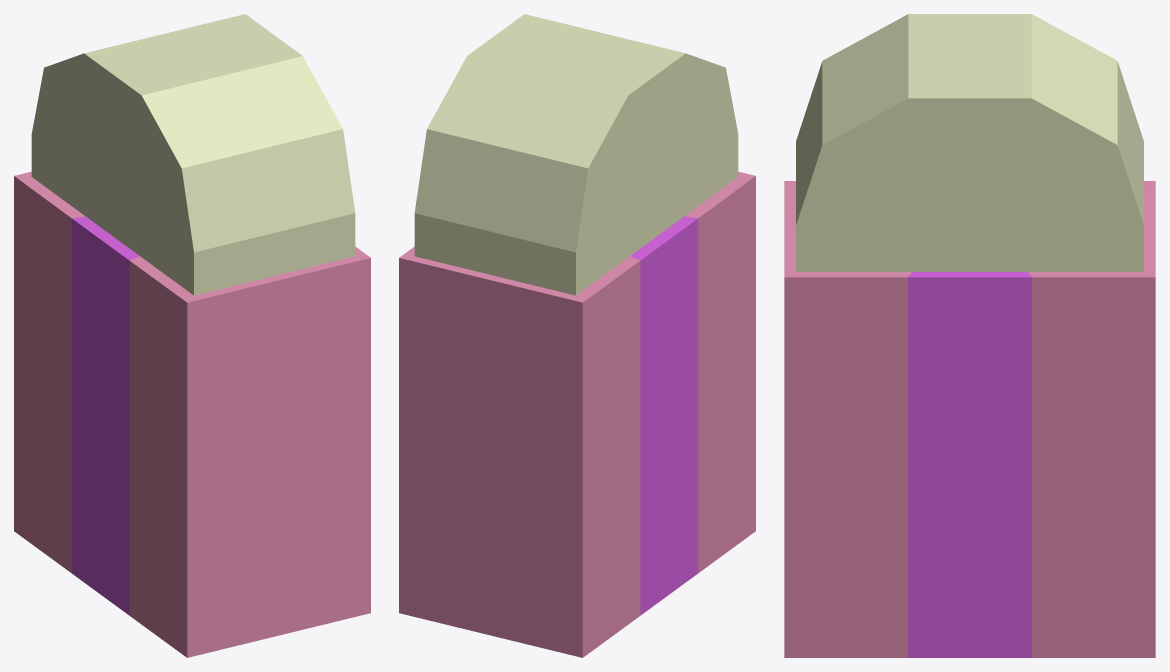
The model's file is Eraser.fbx.
The picture shows the model from 3 angles, left to right: view 1: azimuth 30°, elevation 25°; view 2: azimuth 150°, elevation 25°; view 3: azimuth 270°, elevation 25°; orthographic projection. The views are drawn at different scales.
Visible parts, largest first — view 1: Eraser; view 2: Eraser; view 3: Eraser.
Boxes of the visible parts, x1,y1,x2,y2 form: Eraser: (14, 14, 370, 657); Eraser: (399, 14, 755, 657); Eraser: (784, 14, 1155, 657).
Bounding box in the file's own units: 4.96 × 13.34 × 8.1.
